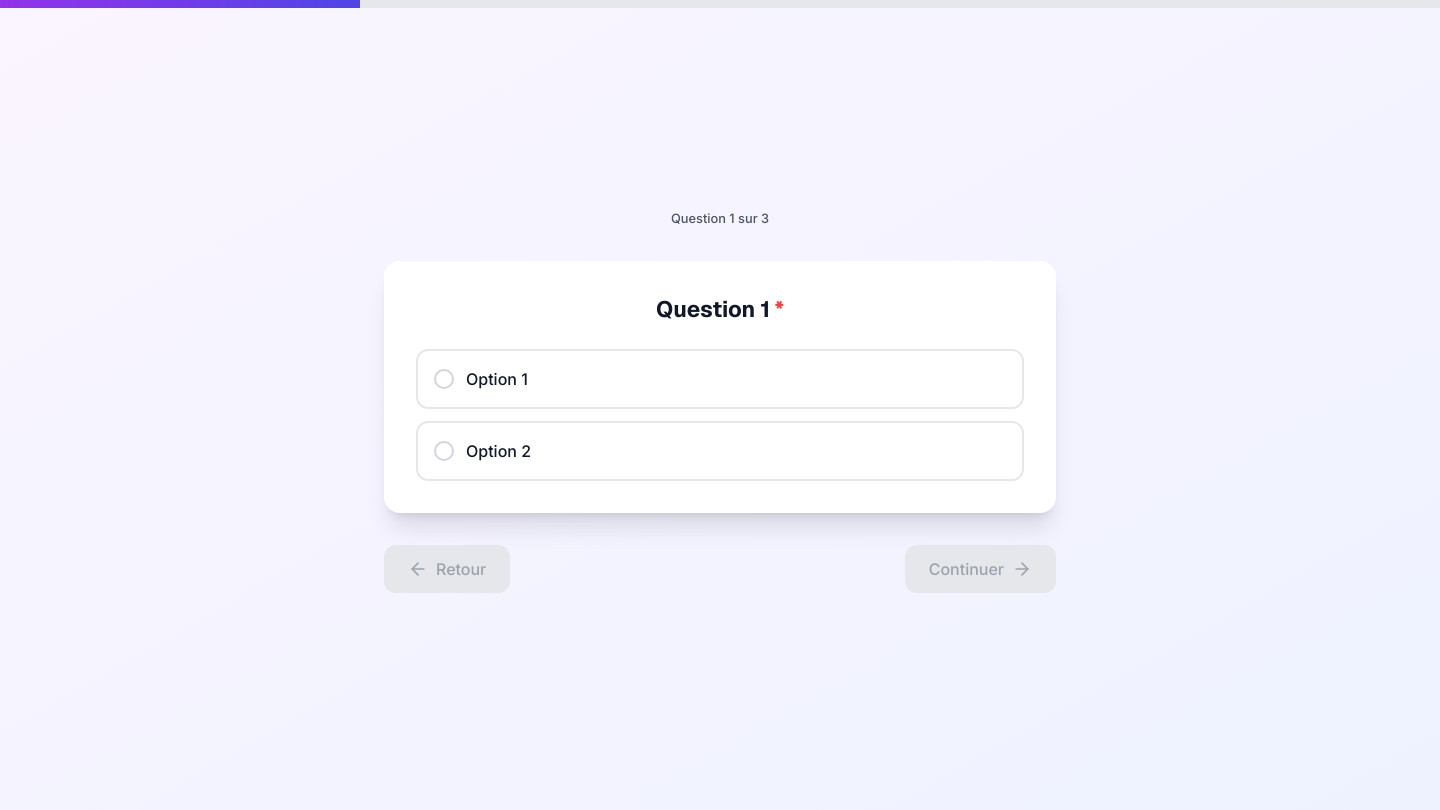
Test case: MultiStepFormVote › active le bouton Continuer après avoir répondu à une question requise
Click the button "Option 1".
click(497, 379)  # box x1=416 y1=349 x2=1024 y2=409
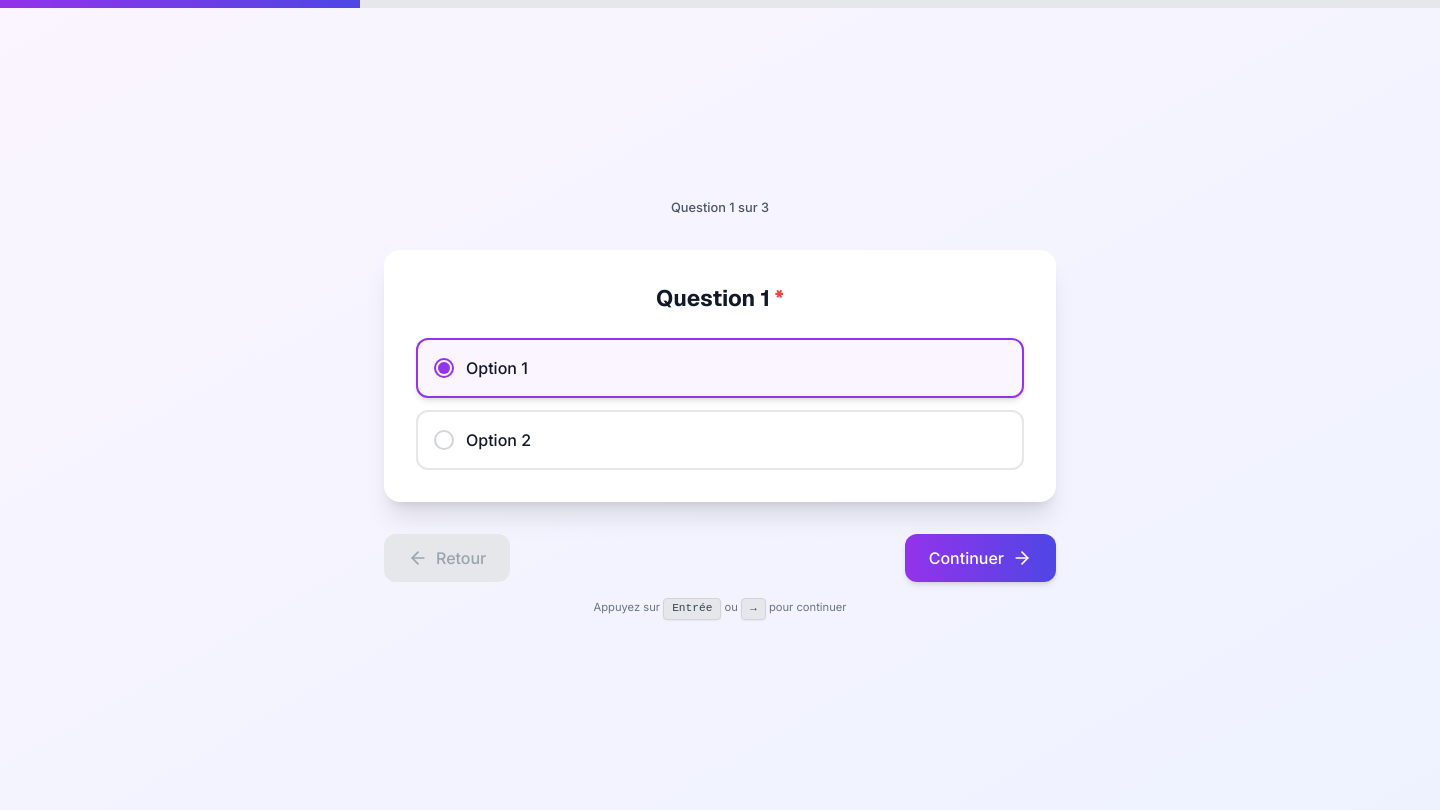
Expected: the button "Continuer" is enabled, x1=905 y1=534 x2=1056 y2=582
